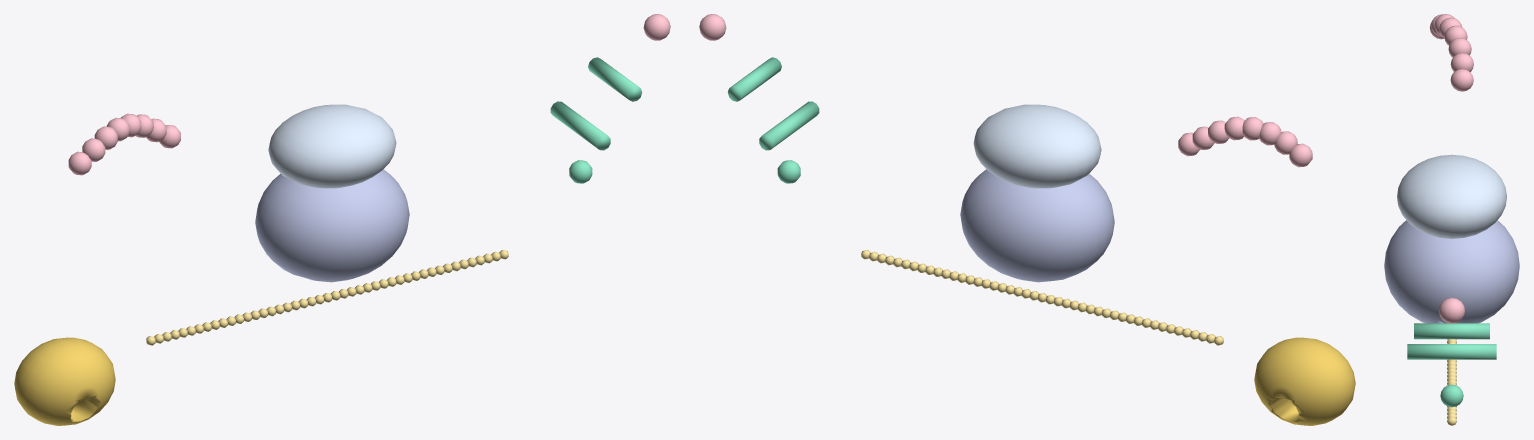
Rendered from translation_kit.glb.
The picture shows the model from 3 angles, left to right: view 1: azimuth 30°, elevation 25°; view 2: azimuth 150°, elevation 25°; view 3: azimuth 270°, elevation 25°; orthographic projection. The views are drawn at different scales.
Parts seen in each view (by area): view 1: ribosome_large, ribosome_small, rna_polymerase, mrna_strand, polypeptide_chain, trna; view 2: ribosome_large, ribosome_small, rna_polymerase, mrna_strand, polypeptide_chain, trna; view 3: ribosome_large, ribosome_small, trna, polypeptide_chain, amino_acid, mrna_strand.
Boxes of the visible parts, bbox=[...] form: ribosome_large: bbox=[255, 169, 409, 282]; ribosome_small: bbox=[268, 104, 396, 188]; rna_polymerase: bbox=[14, 337, 115, 425]; mrna_strand: bbox=[146, 250, 508, 345]; polypeptide_chain: bbox=[68, 113, 180, 175]; trna: bbox=[550, 57, 642, 183]; ribosome_large: bbox=[960, 169, 1114, 282]; ribosome_small: bbox=[973, 104, 1101, 188]; rna_polymerase: bbox=[1254, 337, 1355, 425]; mrna_strand: bbox=[861, 250, 1223, 345]; polypeptide_chain: bbox=[1178, 116, 1312, 167]; trna: bbox=[727, 57, 819, 183]; ribosome_large: bbox=[1384, 220, 1519, 323]; ribosome_small: bbox=[1397, 154, 1506, 238]; trna: bbox=[1407, 323, 1496, 407]; polypeptide_chain: bbox=[1429, 14, 1473, 91]; amino_acid: bbox=[1439, 297, 1464, 323]; mrna_strand: bbox=[1447, 339, 1456, 425].
Bounding box in the file's own units: 3.4 × 1.45 × 0.64.
